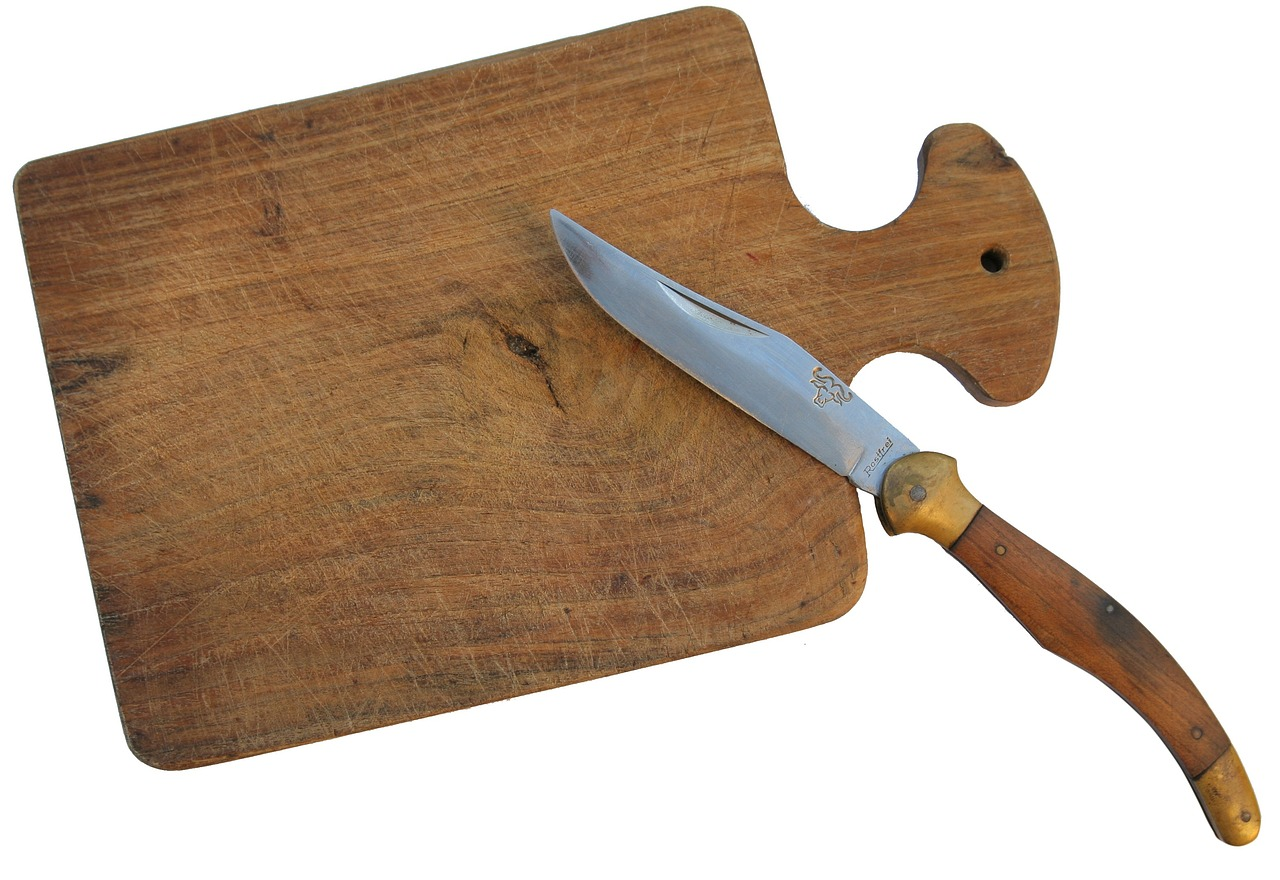knife: (546, 192, 1269, 859)
